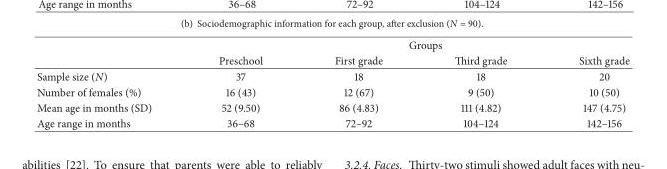table: (36, 36, 628, 130)
table column: (36, 36, 184, 130), (417, 36, 542, 130), (297, 36, 417, 130), (184, 36, 297, 130), (542, 36, 628, 130)
table column header: (36, 36, 628, 67)
table row: (36, 36, 628, 52), (36, 67, 628, 83), (36, 83, 628, 99), (36, 114, 628, 130), (36, 52, 628, 67), (36, 99, 628, 114)
table spanning cell: (184, 36, 628, 52)
